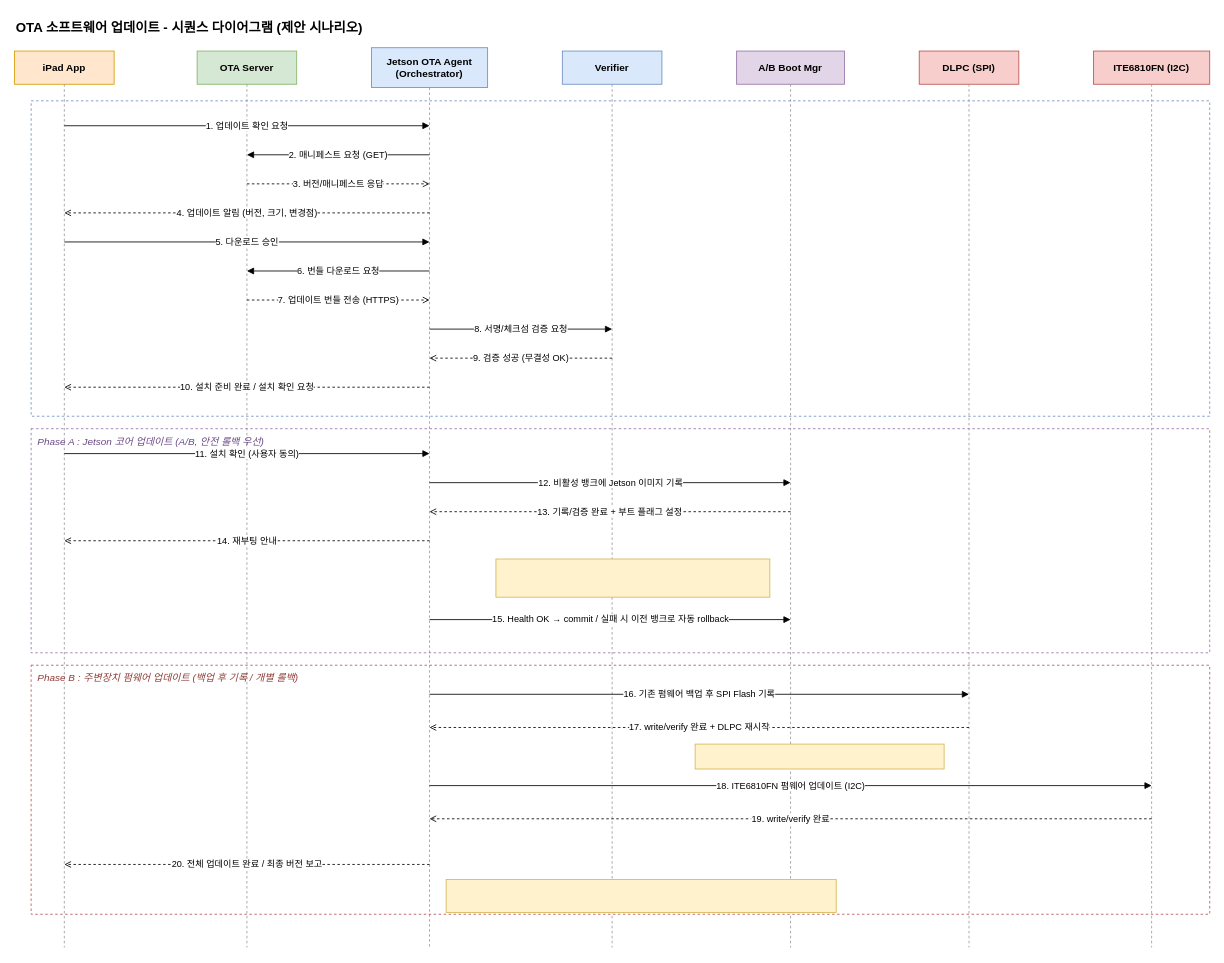
This 1224x963 diagram has some shape labels left out. Here are the shapes that lost their labels. From the top down, the centre of each, then its label:
[620,258]: Phase 0 : 확인 / 다운로드 / 검증
[632,577]: 재부팅 → 신규 뱅크 부팅 → Health Check (부팅/서비스/드라이버 정상 여부 자가진단)
[819,756]: 검증 실패 시 백업본으로 DLPC 롤백
[640,896]: 버전 정합성 확인 : Jetson SW ↔ DLPC ↔ ITE 조합이 매니페스트의 승인 조합과 일치하는지 최종 확인 후 서버에 보고
